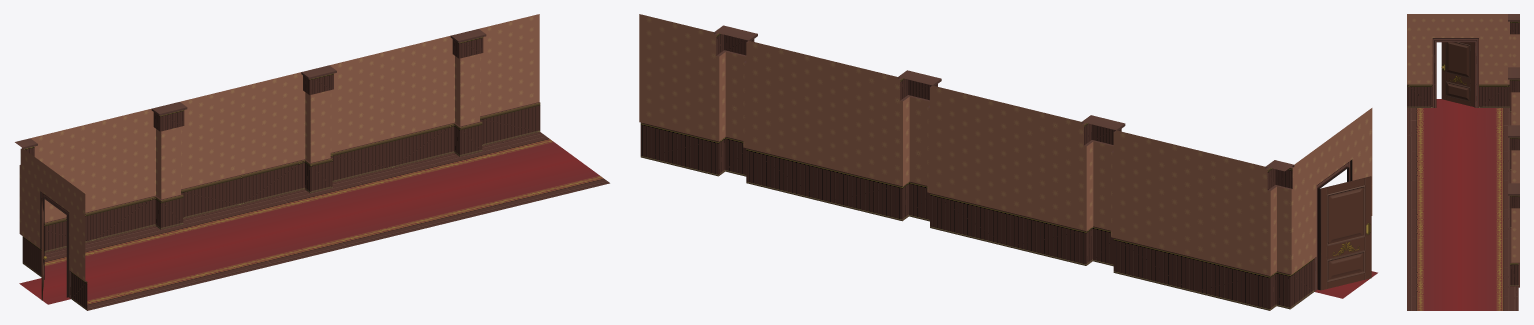
File: hallway.glb
3 renders of one model, left to right at view 1: azimuth 30°, elevation 25°; view 2: azimuth 150°, elevation 25°; view 3: azimuth 270°, elevation 25°, orthographic. The views are drawn at different scales.
Parts seen in each view (by area): view 1: hall; view 2: hall, door; view 3: hall, door.
Boxes of the visible parts, x1,y1,x2,y2 form: hall: (15, 14, 609, 310); hall: (639, 14, 1377, 310); door: (1320, 176, 1371, 290); hall: (1407, 14, 1519, 310); door: (1441, 42, 1474, 106).
Bounding box in the file's own units: 29.26 × 6 × 6.59.
4 materials, 4 textured.
